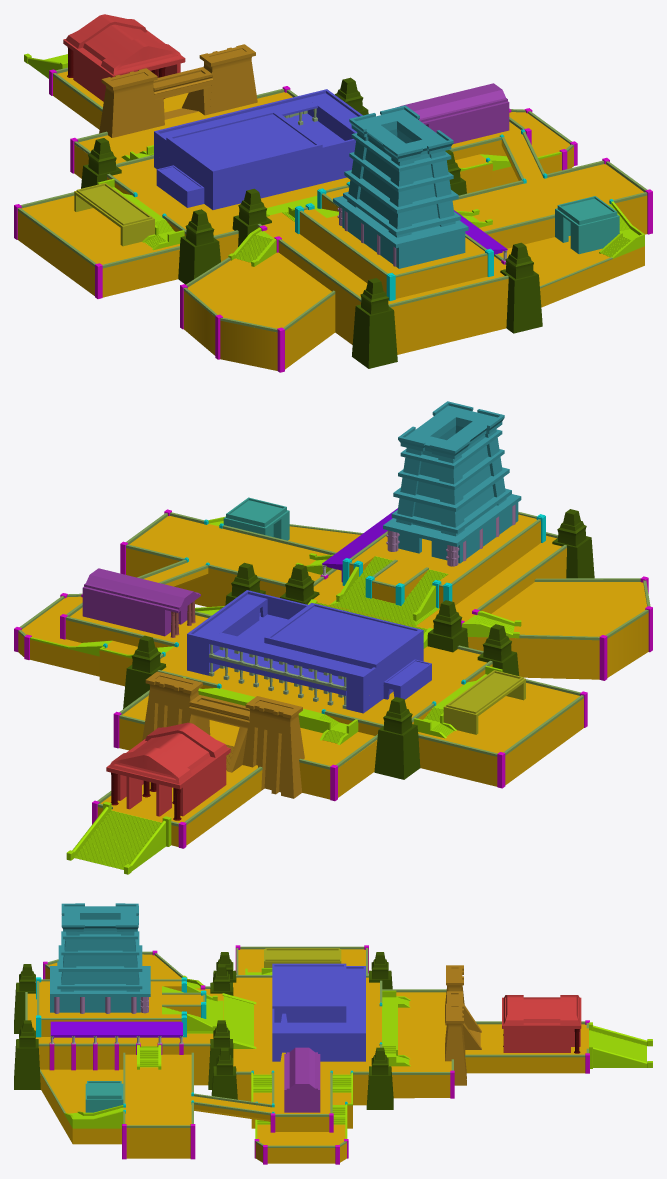
File: Agarthian Palace.fbx
3 views of the same model, one above another, from view 1: azimuth 30°, elevation 25°; view 2: azimuth 150°, elevation 25°; view 3: azimuth 270°, elevation 25° (orthographic). The views are drawn at different scales.
Visible parts, largest first — view 1: base, Temple, Seond_floor, Towers, Second_entry, Fences, Entry, Treasury, First_floor, Storage, Workshops, Base_towers (+8 smaller); view 2: base, Temple, Seond_floor, Towers, Second_entry, Fences, Entry, Treasury, Entry_stairs, temple_stairs, Base_towers, Workshops (+12 smaller); view 3: base, Temple, Seond_floor, Towers, Fences, Entry, Second_entry, temple_stairs, Treasury, Stoa, Entry_stairs, Base_towers (+10 smaller).
Boxes of the visible parts, bbox=[...] form: base: bbox=[17, 71, 647, 370]; Temple: bbox=[333, 105, 468, 268]; Seond_floor: bbox=[154, 89, 362, 196]; Towers: bbox=[81, 77, 542, 368]; Second_entry: bbox=[99, 44, 257, 137]; Fences: bbox=[17, 67, 647, 332]; Entry: bbox=[63, 14, 185, 101]; Treasury: bbox=[397, 83, 509, 143]; First_floor: bbox=[154, 154, 352, 209]; Storage: bbox=[555, 196, 619, 254]; Workshops: bbox=[74, 183, 154, 246]; Base_towers: bbox=[14, 69, 652, 372]; base: bbox=[18, 514, 648, 846]; Temple: bbox=[383, 401, 521, 563]; Seond_floor: bbox=[187, 590, 423, 699]; Towers: bbox=[123, 509, 594, 779]; Second_entry: bbox=[142, 671, 304, 798]; Fences: bbox=[18, 511, 650, 826]; Entry: bbox=[106, 722, 230, 816]; Treasury: bbox=[82, 568, 200, 636]; Entry_stairs: bbox=[66, 801, 171, 874]; temple_stairs: bbox=[308, 556, 448, 648]; Base_towers: bbox=[14, 509, 652, 848]; Workshops: bbox=[443, 670, 525, 734]; base: bbox=[27, 949, 588, 1163]; Temple: bbox=[50, 903, 150, 1012]; Seond_floor: bbox=[272, 963, 365, 1051]; Towers: bbox=[14, 952, 393, 1109]; Fences: bbox=[25, 946, 588, 1147]; Entry: bbox=[502, 995, 581, 1052]; Second_entry: bbox=[445, 965, 481, 1085]; temple_stairs: bbox=[162, 984, 256, 1048]; Treasury: bbox=[284, 1047, 320, 1112]; Stoa: bbox=[50, 1021, 182, 1038]; Entry_stairs: bbox=[589, 1022, 652, 1068]; Base_towers: bbox=[43, 945, 589, 1164].
Bounding box in the file's own units: 323 × 111 × 451.
